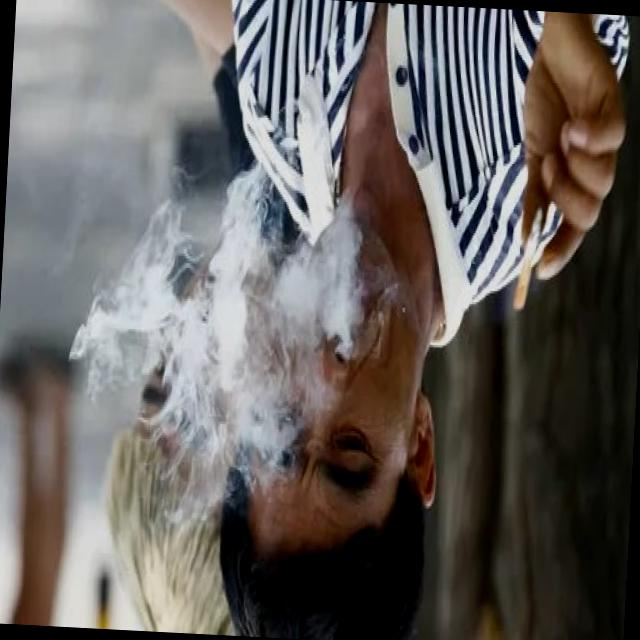smoke: (510, 202, 546, 312)
